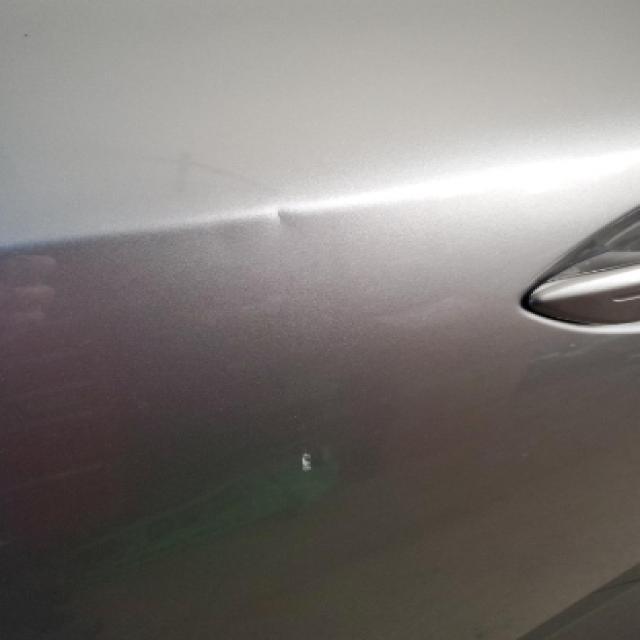dents: (254, 182, 373, 287)
